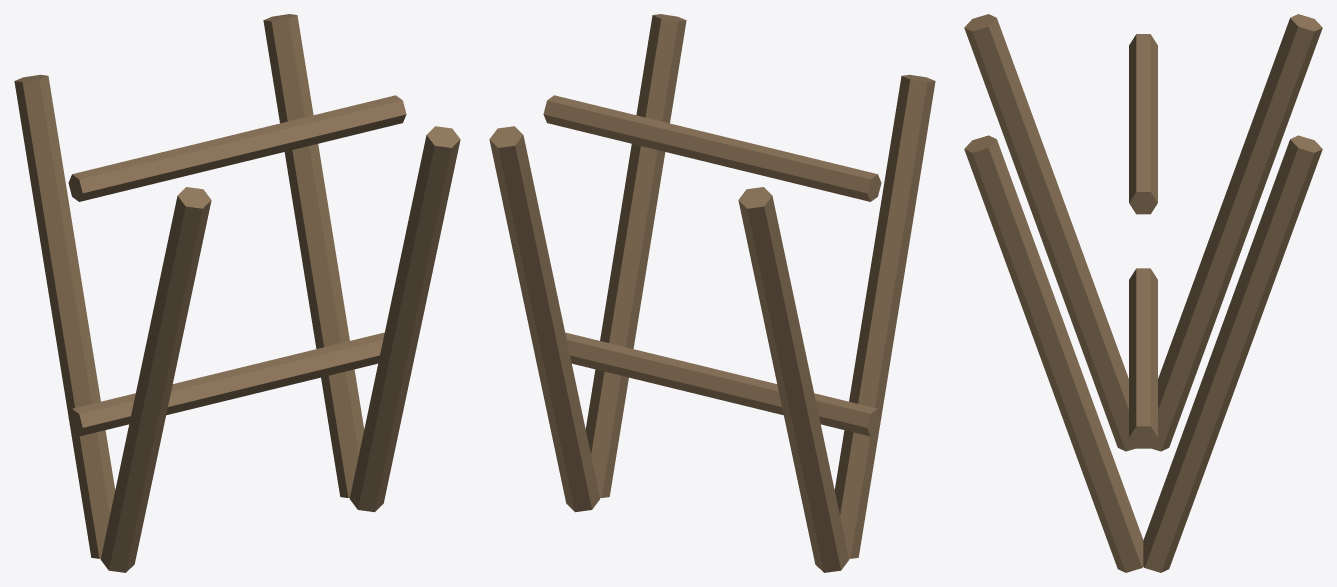
3 renders of one model, left to right at view 1: azimuth 30°, elevation 25°; view 2: azimuth 150°, elevation 25°; view 3: azimuth 270°, elevation 25°, orthographic.
Parts seen in each view (by area): view 1: WeaponRack; view 2: WeaponRack; view 3: WeaponRack.
Part boxes in pixels (bbox=[...]): WeaponRack: bbox=[14, 14, 460, 572]; WeaponRack: bbox=[489, 14, 935, 572]; WeaponRack: bbox=[964, 14, 1322, 572].
Size of the model in its own units: 156 by 198 by 150.
